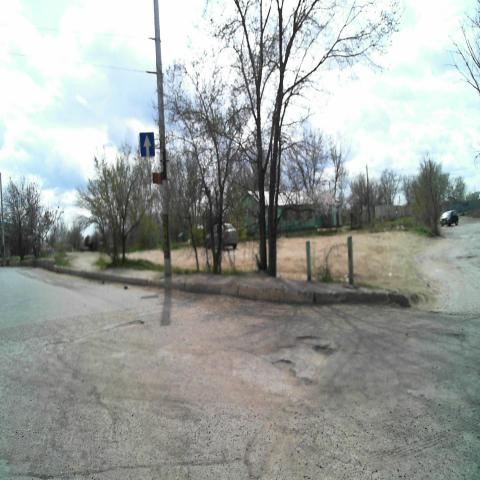5_5: (140, 130, 155, 158)
